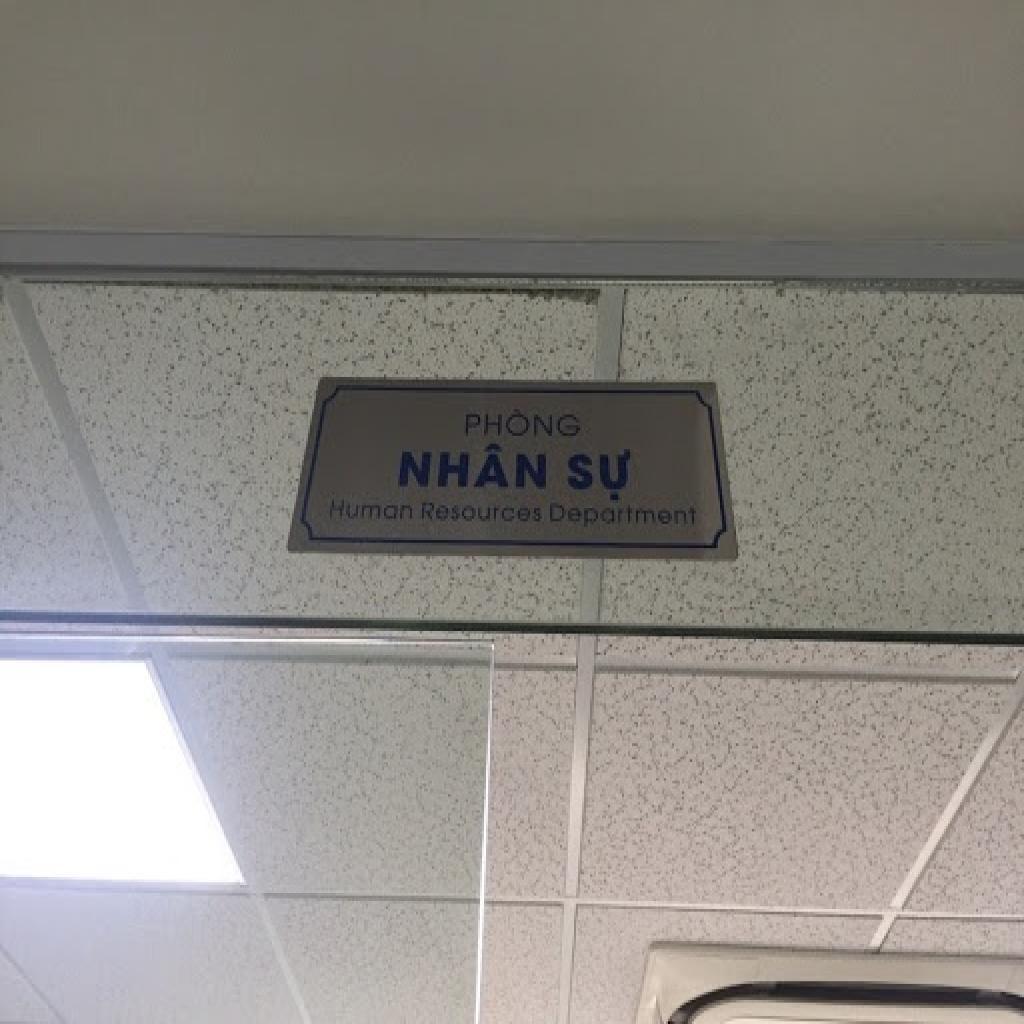text: (388, 438, 554, 498), (462, 398, 584, 446), (562, 444, 638, 505), (420, 497, 546, 532), (328, 494, 420, 526)
